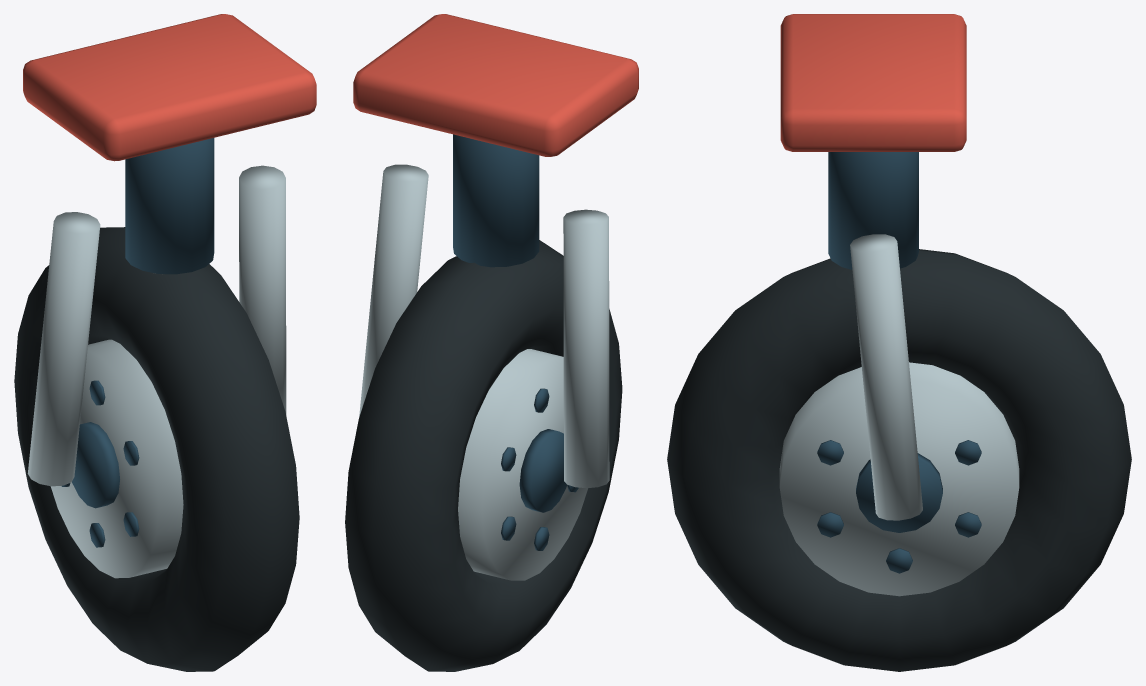
File: gear.glb
3 renders of one model, left to right at view 1: azimuth 30°, elevation 25°; view 2: azimuth 150°, elevation 25°; view 3: azimuth 270°, elevation 25°, orthographic. The views are drawn at different scales.
Parts seen in each view (by area): view 1: Wheel_Rubber, gear_Paint, gear_Aluminium, Wheel_Aluminium, gear_Navy, Wheel_Navy; view 2: Wheel_Rubber, gear_Paint, gear_Aluminium, Wheel_Aluminium, gear_Navy, Wheel_Navy; view 3: Wheel_Rubber, Wheel_Aluminium, gear_Paint, gear_Aluminium, gear_Navy, Wheel_Navy.
Boxes of the visible parts, x1,y1,x2,y2 form: Wheel_Rubber: (14,227,299,671); gear_Paint: (23,14,316,161); gear_Aluminium: (27,165,286,486); Wheel_Aluminium: (50,339,183,578); gear_Navy: (125,138,214,274); Wheel_Navy: (61,380,139,547); Wheel_Rubber: (345,240,622,671); gear_Paint: (353,14,638,156); gear_Aluminium: (359,164,609,488); Wheel_Aluminium: (458,349,588,580); gear_Navy: (453,134,539,267); Wheel_Navy: (501,388,578,550); Wheel_Rubber: (667,249,1131,671); Wheel_Aluminium: (779,362,1019,596); gear_Paint: (780,14,966,151); gear_Aluminium: (850,234,922,520); gear_Navy: (828,152,918,269); Wheel_Navy: (817,440,981,573).
Bounding box in the file's own units: 0.2859 × 0.65 × 0.45.
